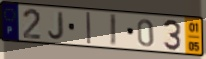0: (136, 18, 156, 48)
2: (22, 8, 43, 41)
3: (162, 18, 183, 52)
I: (109, 13, 118, 48), (85, 11, 92, 46)
J: (47, 11, 65, 41)
